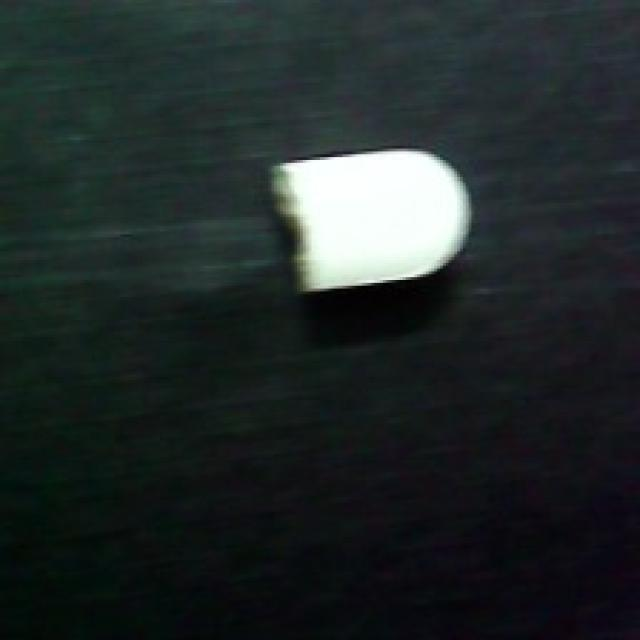defected: (264, 138, 482, 298)
